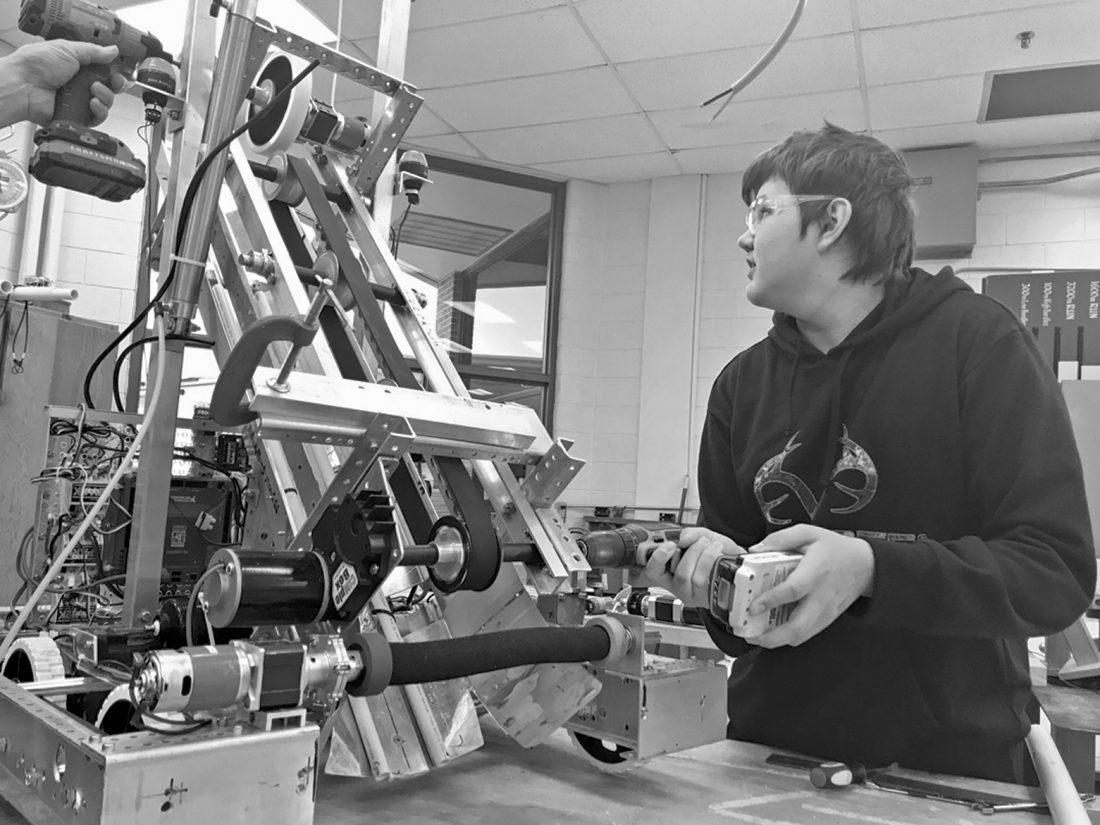robot: (5, 0, 735, 822)
